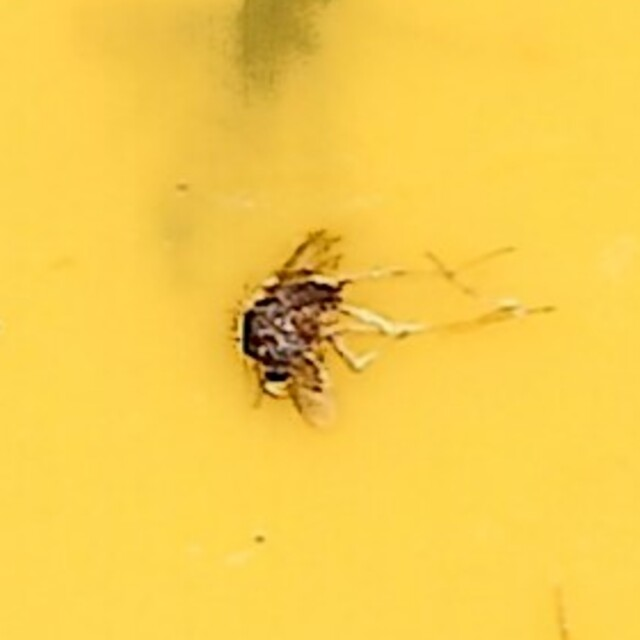Nematocera: (229, 227, 411, 413)
